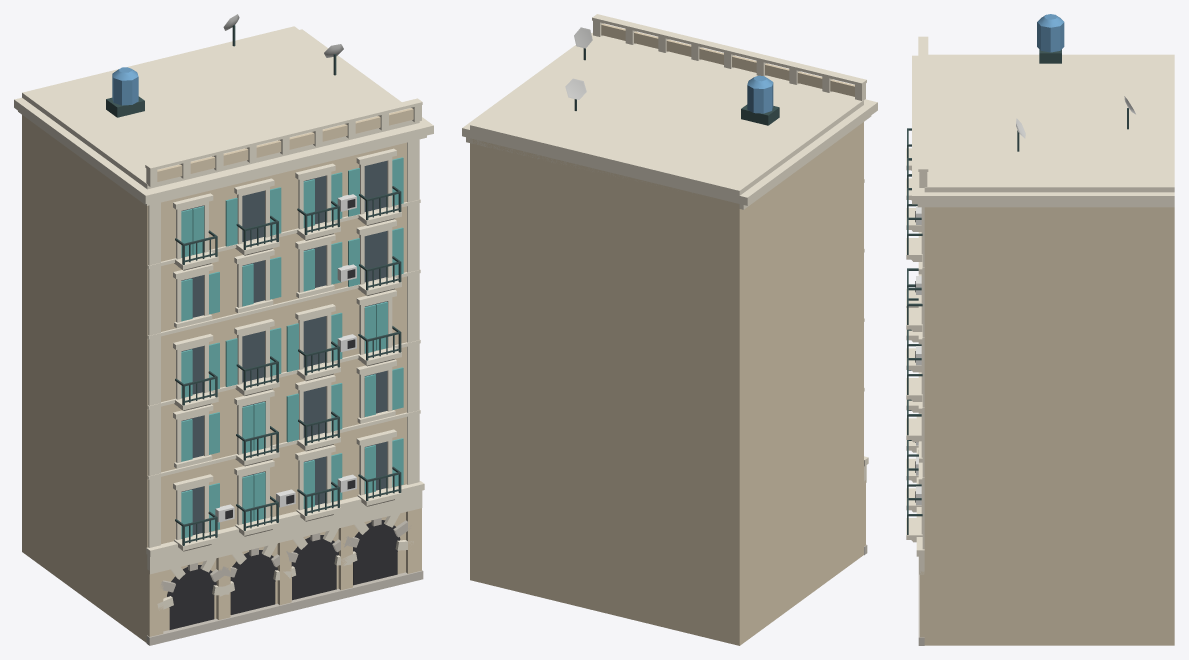
Rendered from bb_building_e.fbx.
The picture shows the model from 3 angles, left to right: view 1: azimuth 30°, elevation 25°; view 2: azimuth 150°, elevation 25°; view 3: azimuth 270°, elevation 25°; orthographic projection.
Parts seen in each view (by area): view 1: bb_building_e; view 2: bb_building_e; view 3: bb_building_e.
Boxes of the visible parts, x1,y1,x2,y2 form: bb_building_e: (14,14,433,645); bb_building_e: (462,14,877,645); bb_building_e: (906,14,1174,645).
Bounding box in the file's own units: 14.6 × 25.05 × 11.8.
